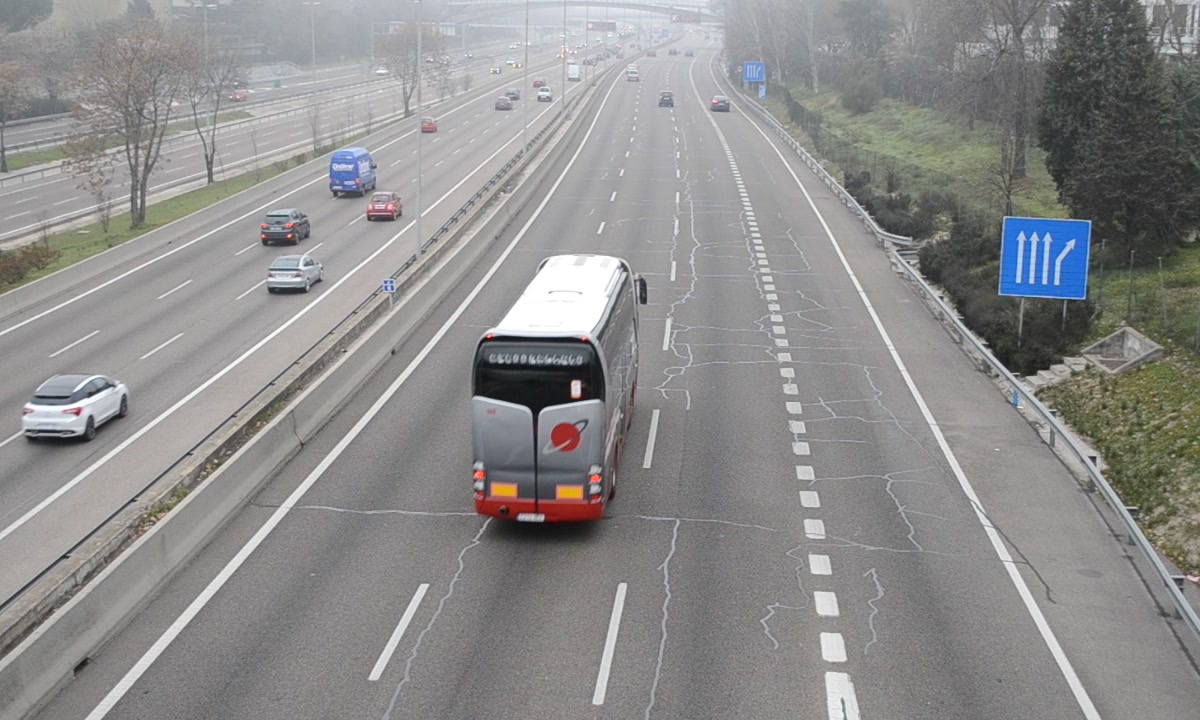bus: (467, 256, 640, 526)
car: (710, 94, 731, 113), (658, 89, 675, 108)
